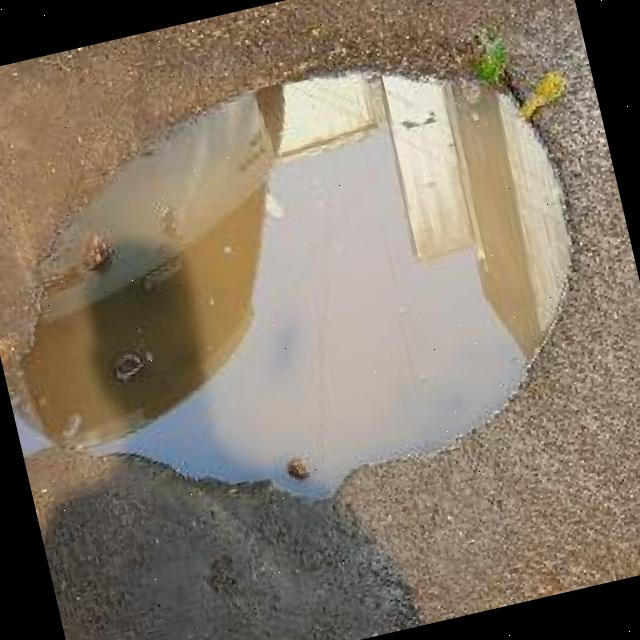waterlogging: (0, 0, 633, 535)
